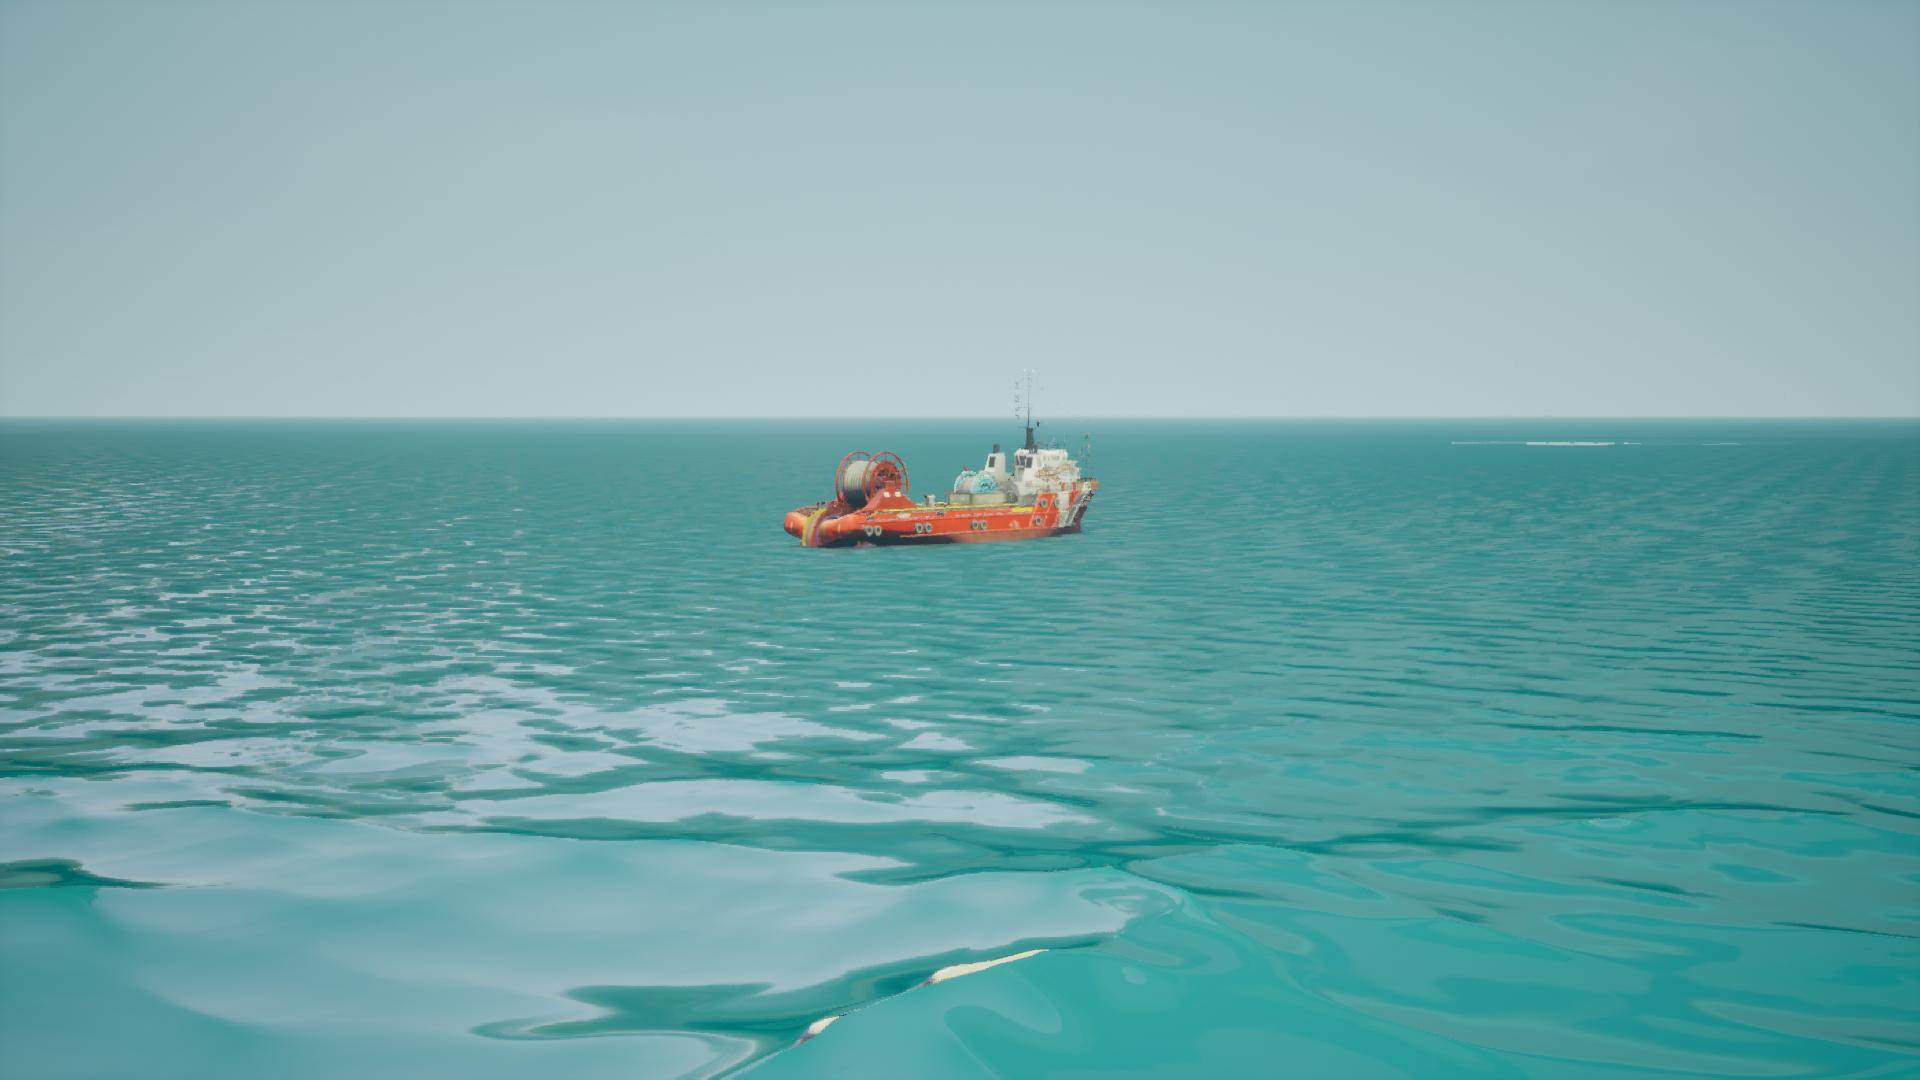Tug Boat: (790, 373, 1101, 546)
